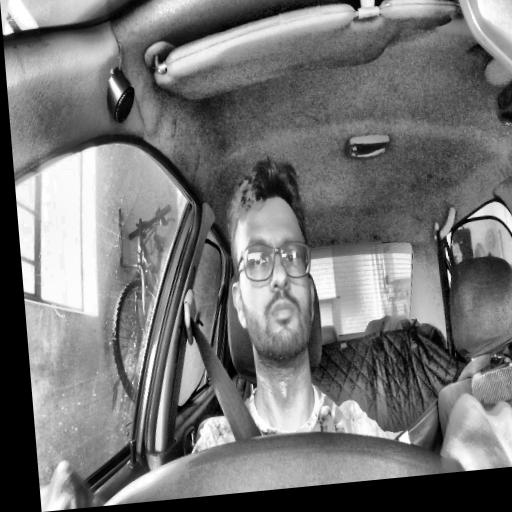awake: (222, 160, 320, 370)
